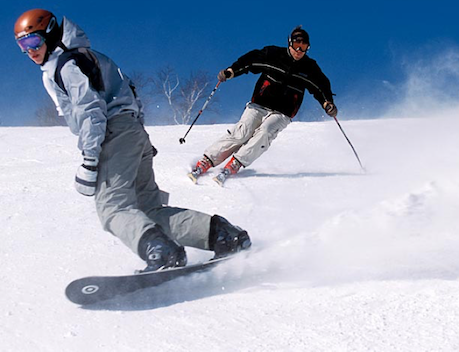skier: (181, 26, 368, 185)
snowboarder: (2, 8, 250, 305)
